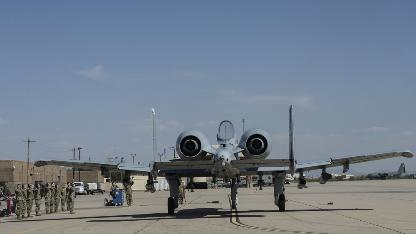A10: (33, 103, 413, 212)
Be200: (366, 161, 406, 178)
